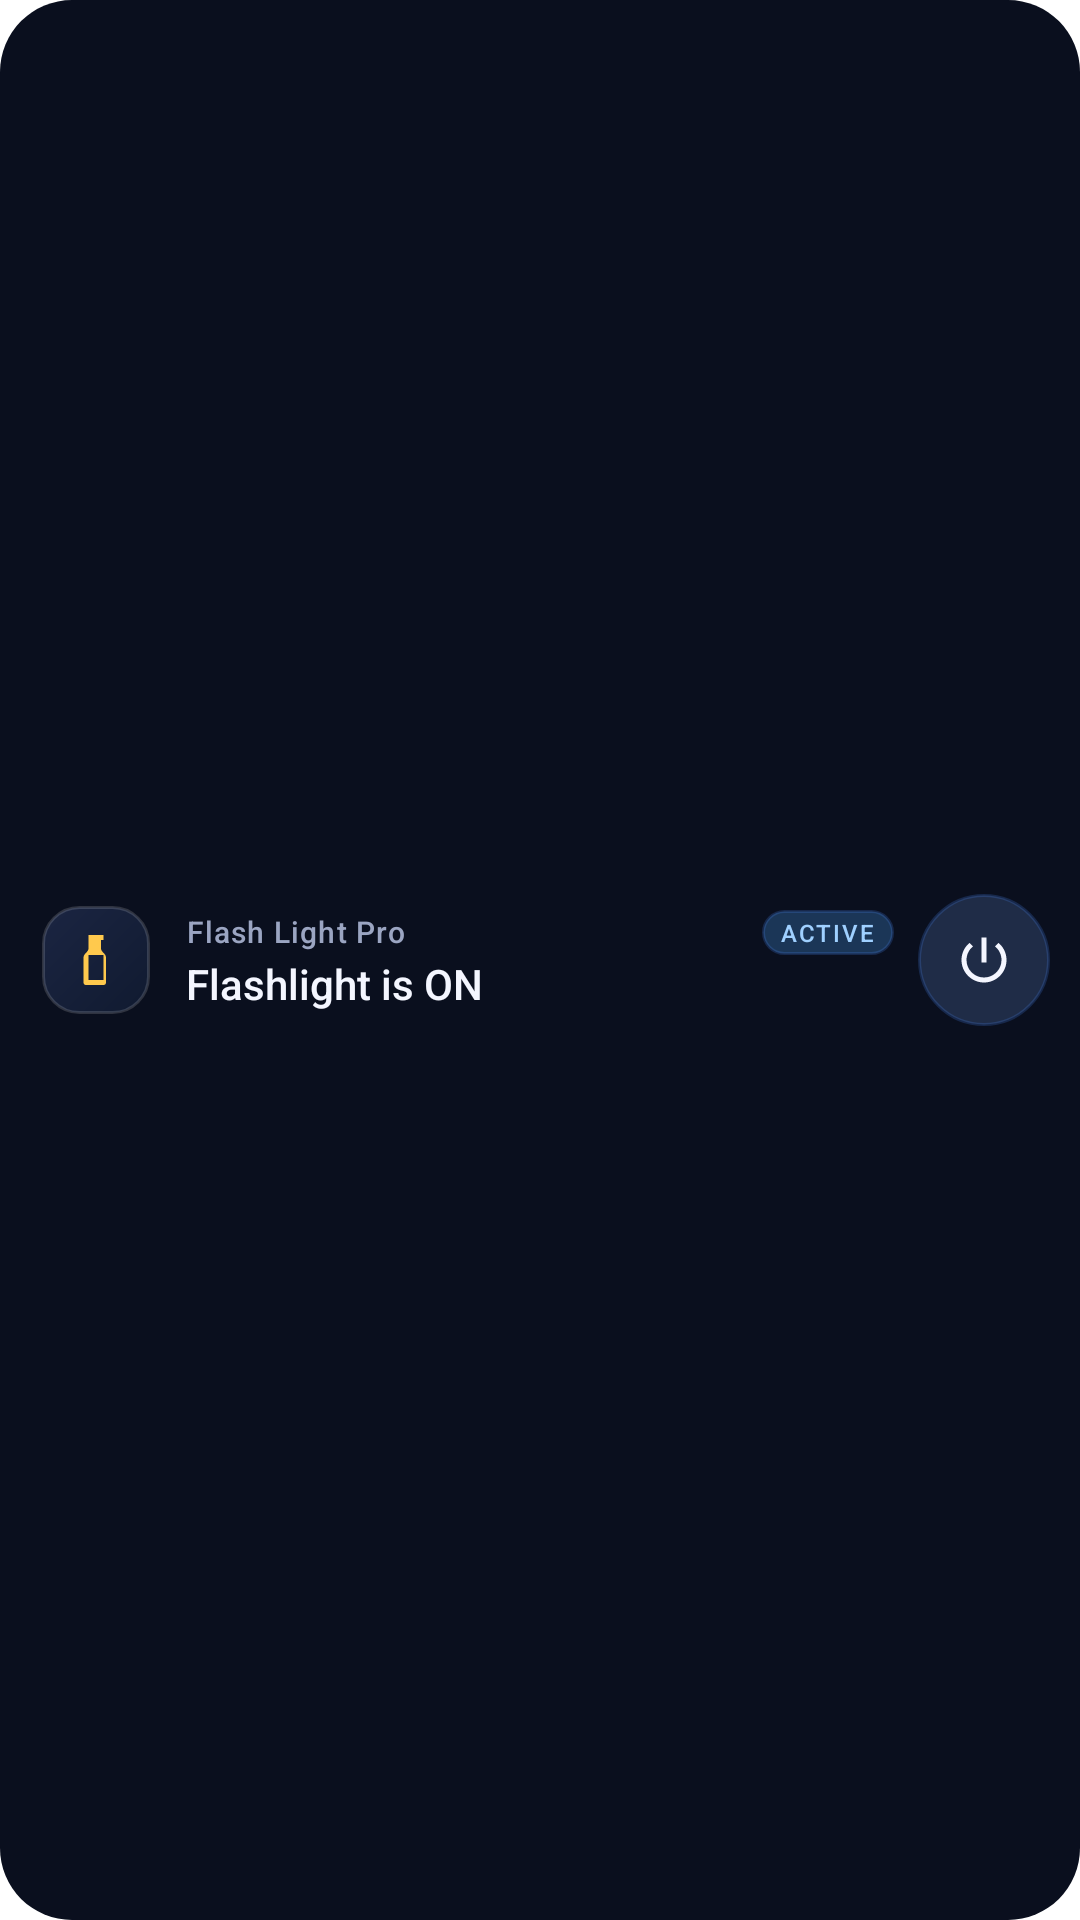

Named icons in this screenshot (1080*1920) and their centers, [x,y]:
notification power: [984,960]
notification torch amber: [94,960]
